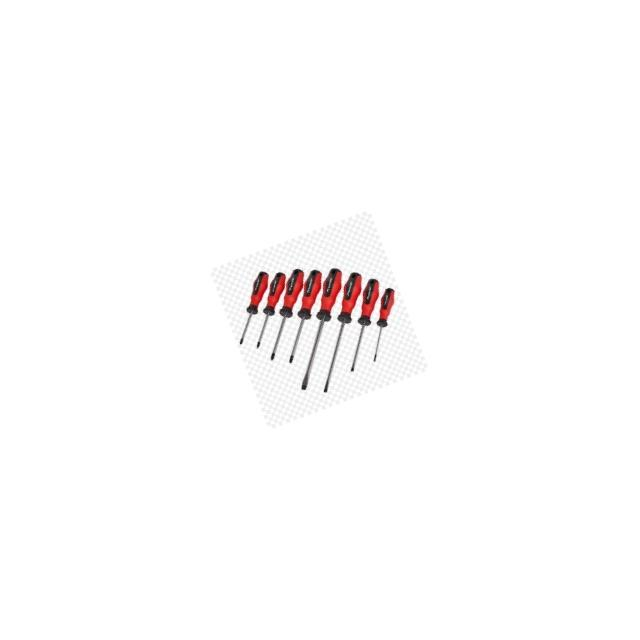screwdriver: (264, 266, 376, 392), (287, 268, 397, 394), (260, 266, 348, 366), (243, 265, 330, 362), (322, 276, 406, 374), (233, 269, 308, 350), (218, 268, 288, 345), (351, 286, 416, 364)
